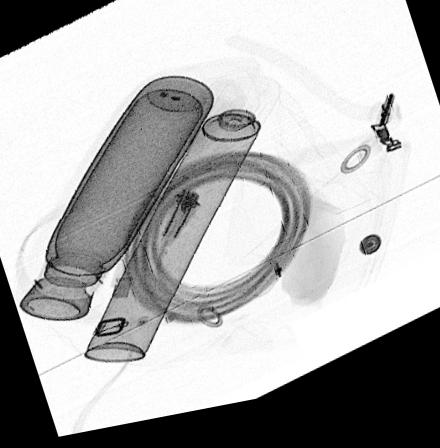Sprayer: (82, 77, 282, 368)
